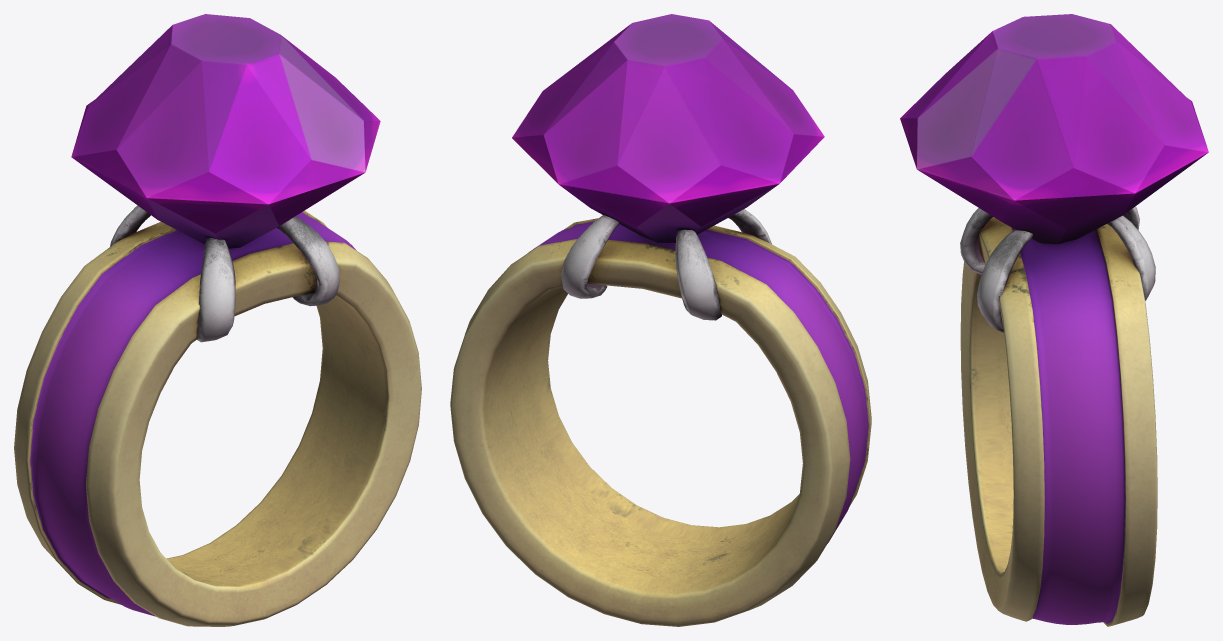
Rendered from GemRing.fbx.
The picture shows the model from 3 angles, left to right: view 1: azimuth 30°, elevation 25°; view 2: azimuth 150°, elevation 25°; view 3: azimuth 270°, elevation 25°; orthographic projection. The views are drawn at different scales.
Parts seen in each view (by area): view 1: Ring.006; view 2: Ring.006; view 3: Ring.006.
Part boxes in pixels (left/top/right/bottom): Ring.006: left=14, top=14, right=421, bottom=626; Ring.006: left=450, top=14, right=871, bottom=626; Ring.006: left=900, top=14, right=1208, bottom=626.
Size of the model in its own units: 2.61 by 3.82 by 1.87.
